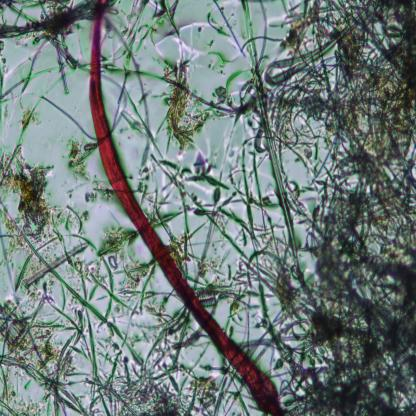Background material: (0, 0, 147, 416), (277, 0, 416, 416), (141, 0, 297, 331), (80, 265, 229, 416)
Cotton: (91, 0, 282, 414)
